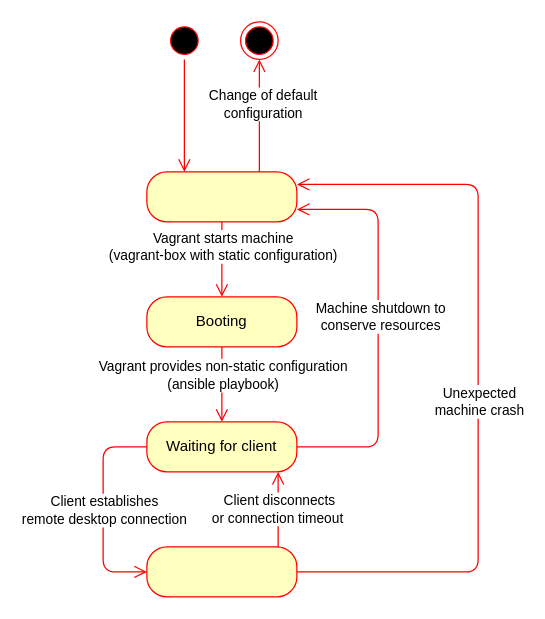
Some shapes in this 545 by 619 pixel diagram are drawn without their labels. The shapes that lost their labels are listed below. From the top down, each one's centre as x and y in pixels, then its label:
(x=221, y=196): Down
(x=221, y=571): Occupied
